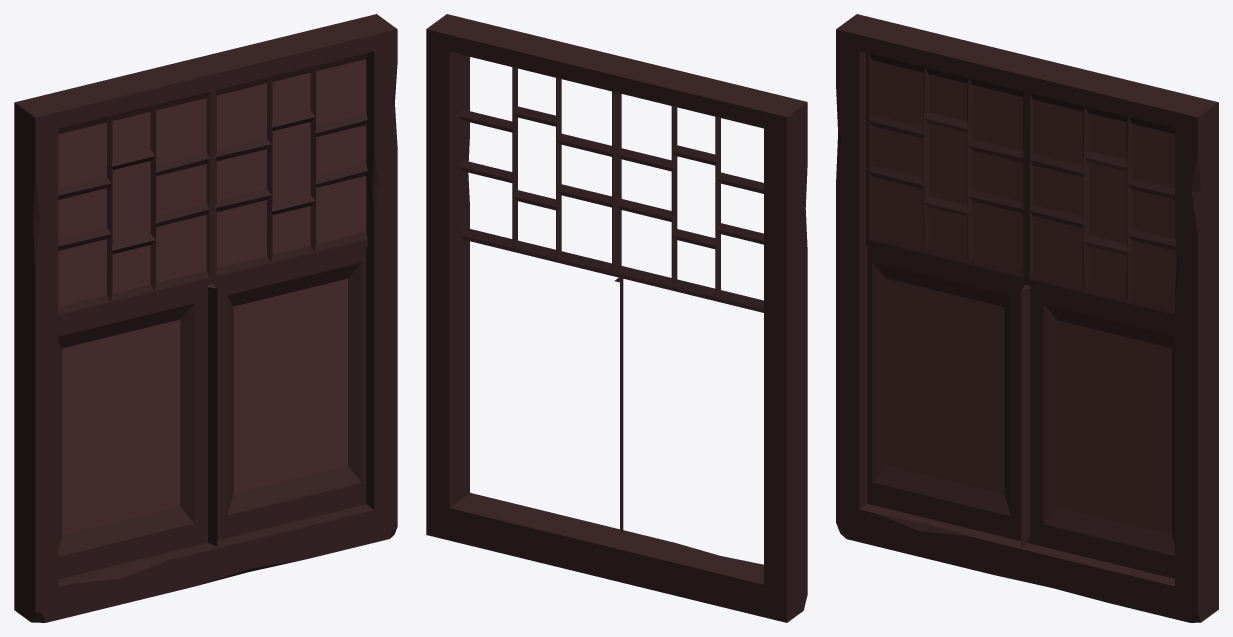
Rendered from SM_Env_Door_25.fbx.
3 renders of one model, left to right at view 1: azimuth 30°, elevation 25°; view 2: azimuth 150°, elevation 25°; view 3: azimuth 330°, elevation 25°, orthographic.
Visible parts, largest first — view 1: SM_Env_Door_25; view 2: SM_Env_Door_25; view 3: SM_Env_Door_25.
Boxes of the visible parts, x1,y1,x2,y2 form: SM_Env_Door_25: [14, 14, 397, 622]; SM_Env_Door_25: [426, 14, 807, 622]; SM_Env_Door_25: [836, 14, 1218, 622].
Bounding box in the file's own units: 131 × 175 × 13.06.
1 material, 1 textured.
